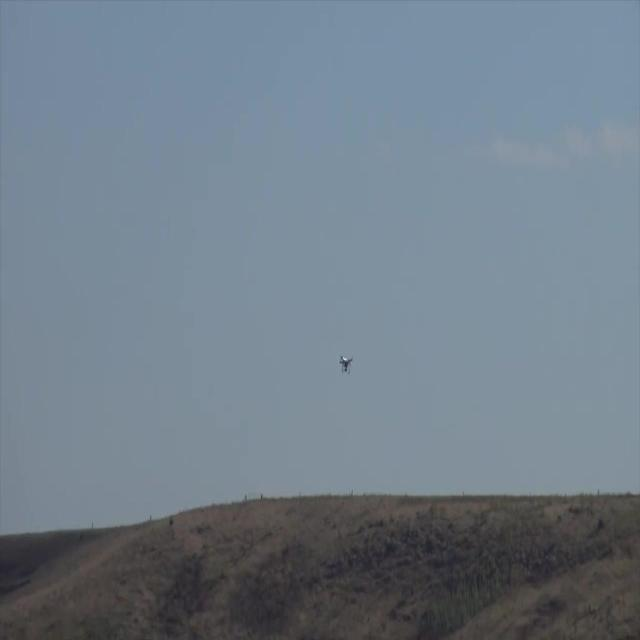drone: (336, 351, 356, 377)
